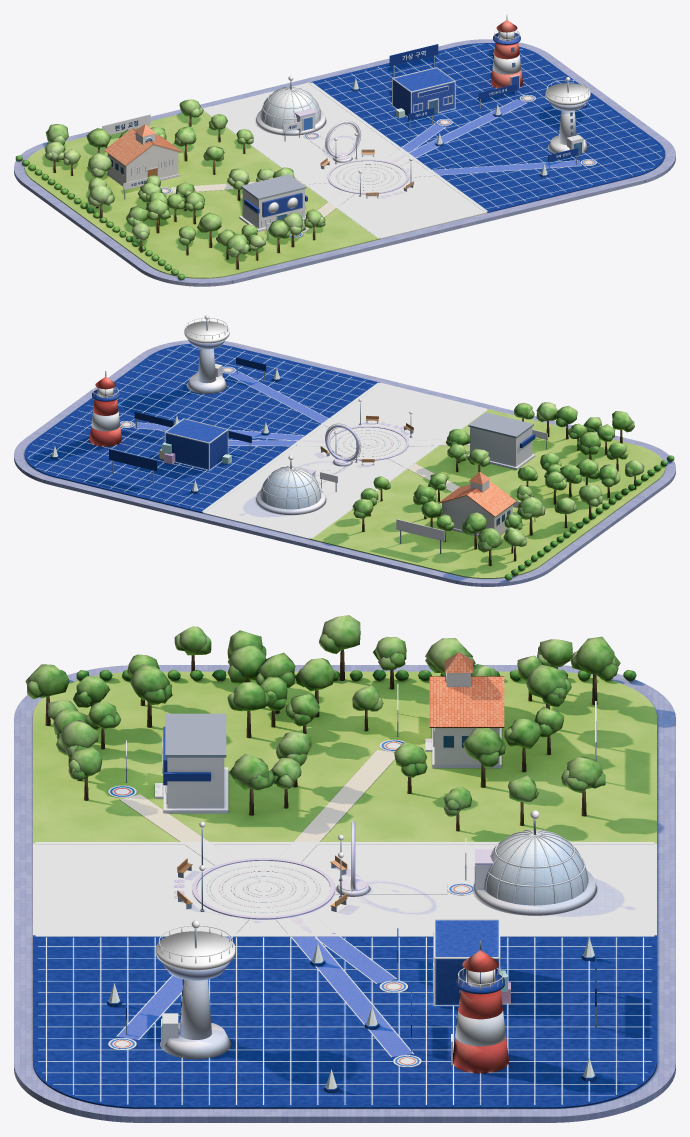
File: campus_v1.glb
The picture shows the model from 3 angles, top to bottom: view 1: azimuth 30°, elevation 25°; view 2: azimuth 150°, elevation 25°; view 3: azimuth 270°, elevation 25°; orthographic projection. The views are drawn at different scales.
Parts seen in each view (by area): view 1: BK_virt, BK_real, BK_fusion, BK_trees, BK_base, BK_hallA, BK_hallB, BK_paths, BK_plaza, BK_signs, BK_props; view 2: BK_virt, BK_real, BK_fusion, BK_trees, BK_base, BK_hallA, BK_hallB, BK_paths, BK_plaza, BK_signs; view 3: BK_virt, BK_real, BK_fusion, BK_trees, BK_base, BK_hallA, BK_hallB, BK_paths, BK_plaza, BK_crystal, BK_props.
Part boxes in pixels (x1,y1,x2,y2): BK_virt: (310, 43, 665, 212); BK_real: (24, 111, 380, 278); BK_fusion: (203, 82, 487, 238); BK_trees: (15, 99, 325, 279); BK_base: (14, 39, 675, 286); BK_hallA: (104, 76, 326, 231); BK_hallB: (392, 14, 590, 154); BK_paths: (161, 95, 596, 237); BK_plaza: (325, 120, 408, 198); BK_signs: (102, 44, 578, 239); BK_props: (320, 132, 413, 198); BK_virt: (24, 343, 379, 513); BK_real: (309, 408, 665, 578); BK_fusion: (202, 382, 487, 539); BK_trees: (352, 402, 674, 580); BK_base: (14, 340, 675, 586); BK_hallA: (255, 412, 535, 536); BK_hallB: (89, 315, 231, 470); BK_paths: (120, 366, 469, 492); BK_plaza: (325, 422, 408, 466); BK_signs: (109, 357, 547, 553); BK_virt: (33, 935, 656, 1108); BK_real: (33, 671, 656, 843); BK_fusion: (33, 842, 656, 936); BK_trees: (25, 615, 636, 831); BK_base: (14, 665, 675, 1122); BK_hallA: (155, 652, 596, 915); BK_hallB: (156, 919, 510, 1073); BK_paths: (108, 739, 473, 1067); BK_plaza: (173, 819, 370, 919); BK_crystal: (107, 937, 596, 1092); BK_props: (177, 821, 347, 911).
Bounding box in the file's own units: 78.8 × 10.67 × 48.8.
Materials: 12 (12 with a texture image).
